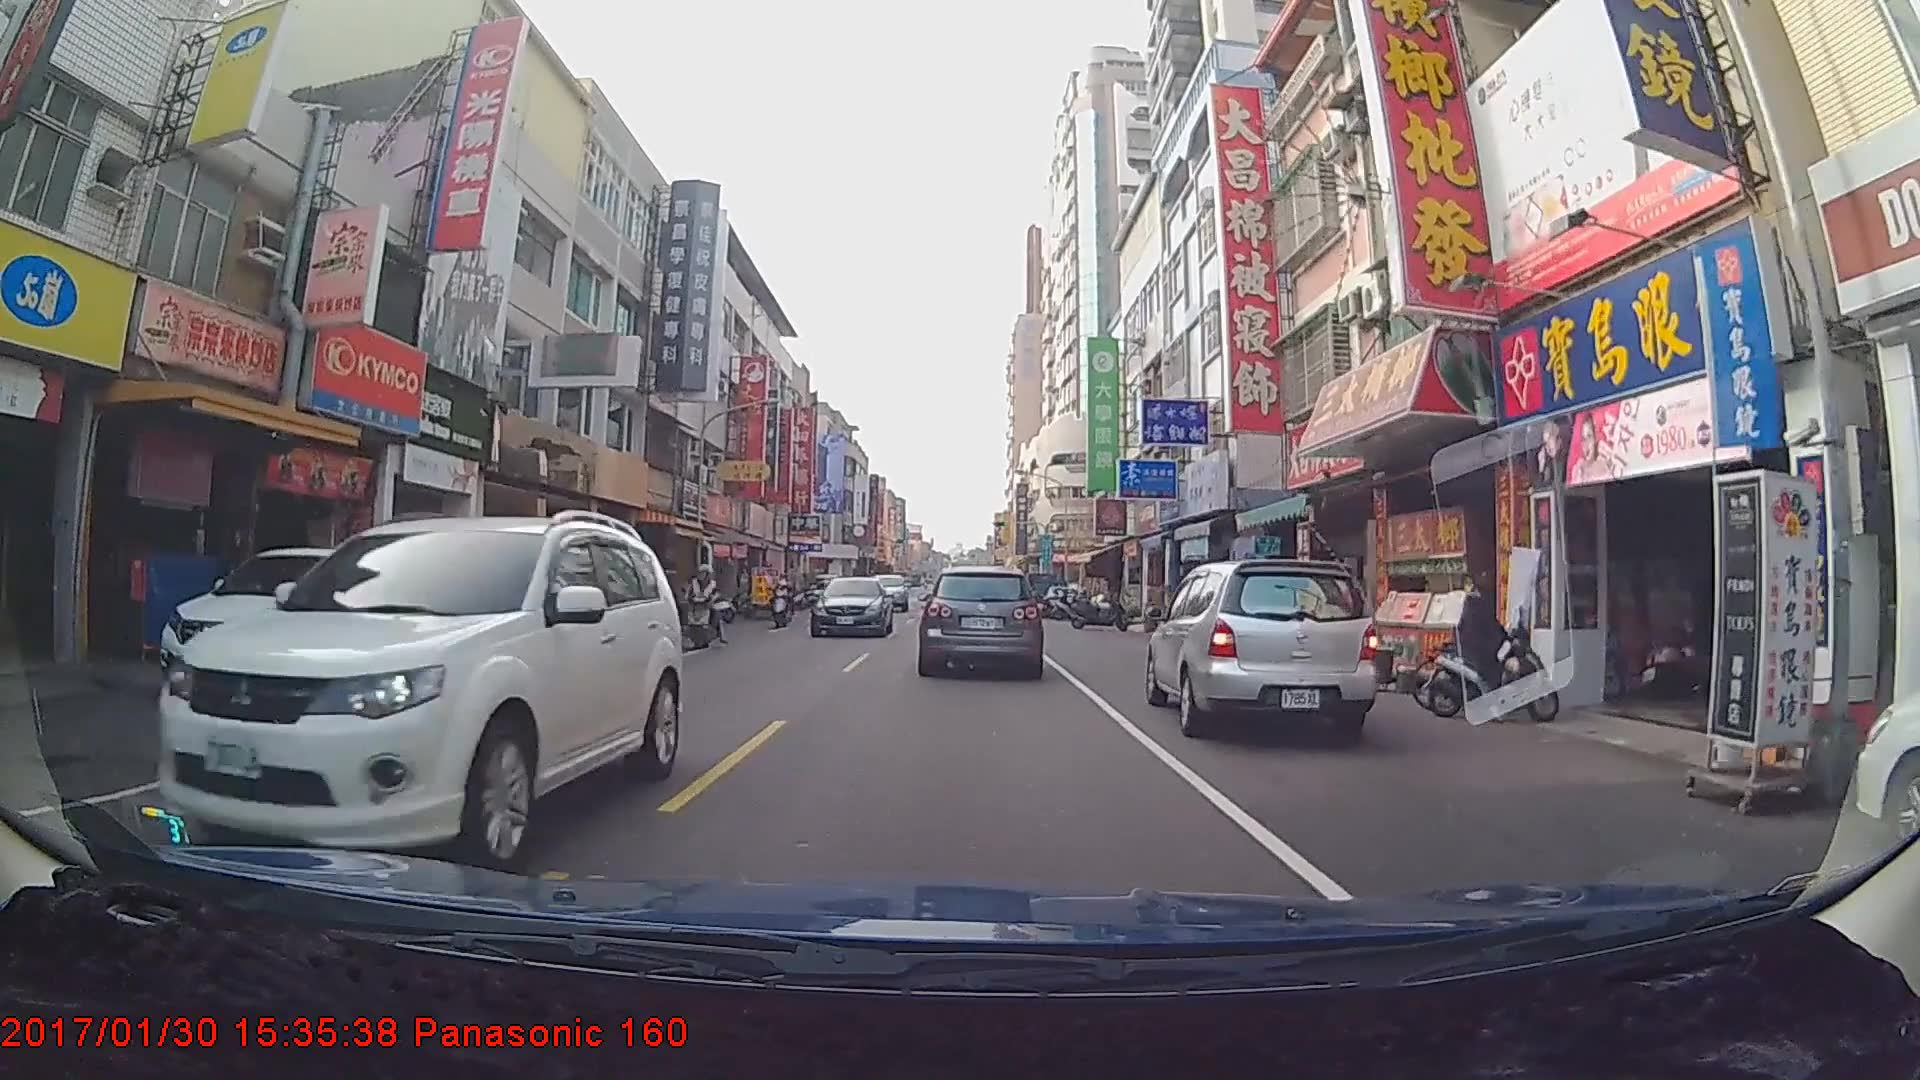rider: (1425, 574, 1572, 735), (677, 561, 734, 649), (764, 575, 794, 627)
vehicle: (155, 515, 683, 879), (1143, 561, 1376, 742), (160, 546, 416, 708), (918, 564, 1042, 676), (808, 576, 895, 639), (863, 572, 908, 611)
